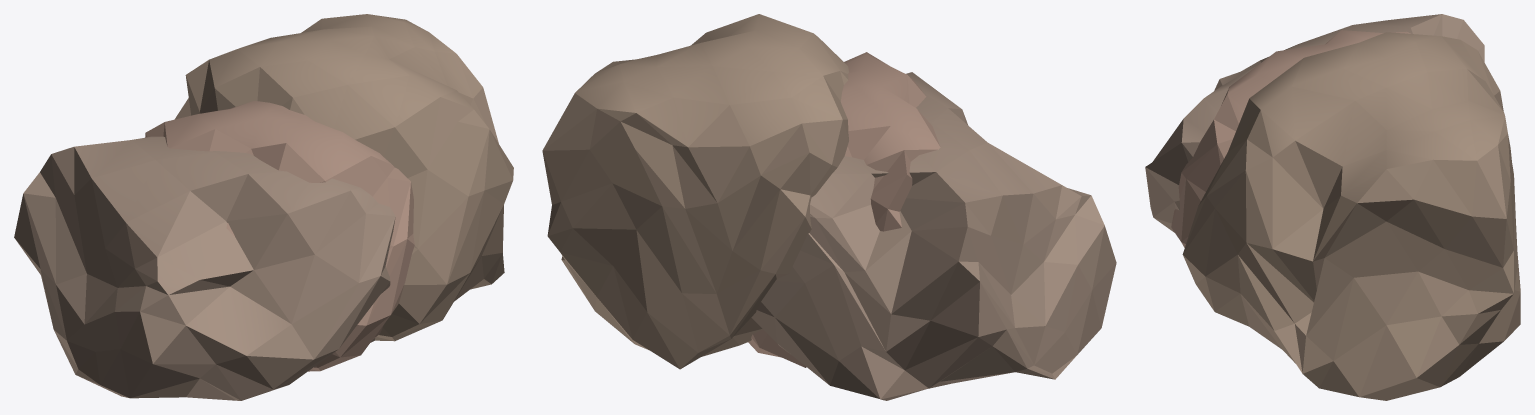
File: Granit_3.fbx
The picture shows the model from 3 angles, left to right: view 1: azimuth 30°, elevation 25°; view 2: azimuth 150°, elevation 25°; view 3: azimuth 270°, elevation 25°; orthographic projection. The views are drawn at different scales.
Visible parts, largest first — view 1: Granit_3; view 2: Granit_3; view 3: Granit_3.
Boxes of the visible parts, x1=… form: Granit_3: x1=14, y1=14, x2=513, y2=400; Granit_3: x1=542, y1=14, x2=1116, y2=400; Granit_3: x1=1145, y1=14, x2=1520, y2=400.
Bounding box in the file's own units: 176 × 109 × 127.
